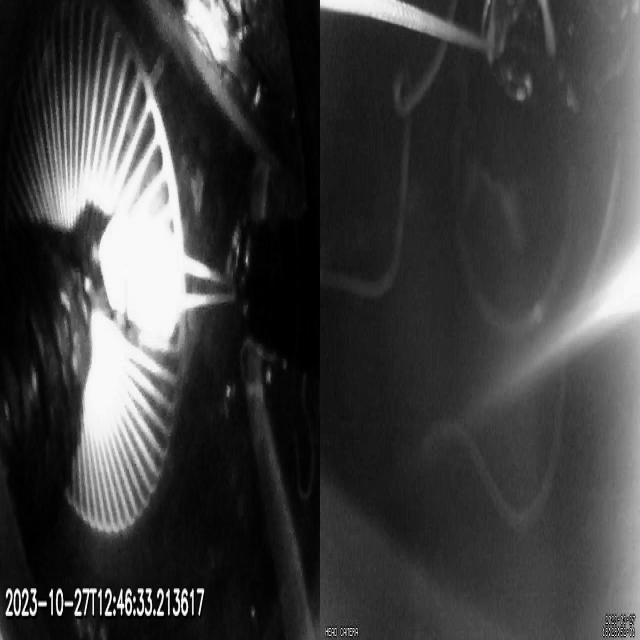head: (106, 213, 184, 341)
